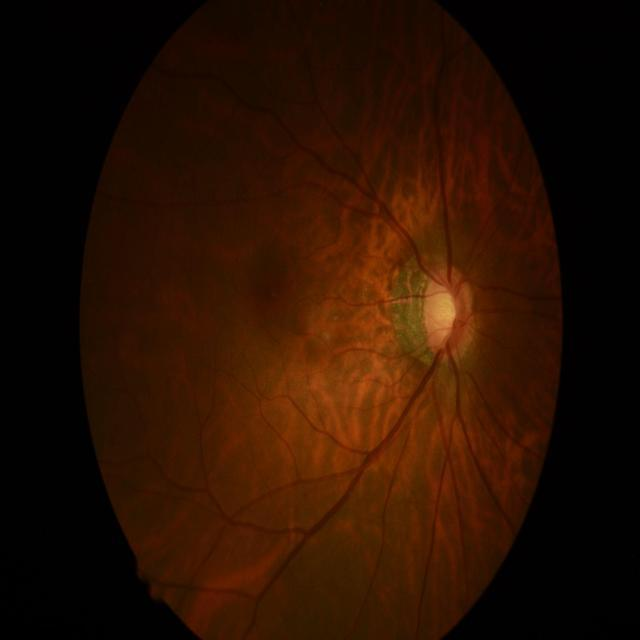cup: (430, 280, 458, 349)
disk: (425, 266, 475, 360)
